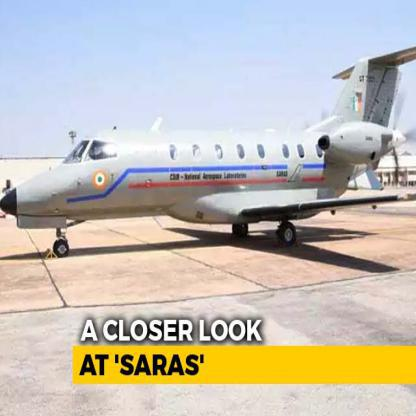CIV_Plane: (0, 43, 415, 278)
